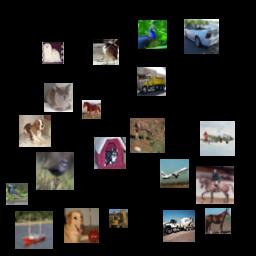airplane: (200, 121, 235, 156), (160, 159, 189, 188)
automobile: (184, 19, 219, 54)
bird: (36, 152, 74, 190), (138, 20, 167, 49), (93, 39, 119, 65), (6, 183, 28, 205)
cat: (94, 137, 126, 169), (44, 83, 73, 112)
deer: (130, 118, 165, 153)
dog: (64, 208, 99, 243), (19, 115, 51, 147), (42, 42, 64, 64)
ship: (15, 211, 53, 249)
truck: (163, 210, 195, 242), (137, 67, 166, 96), (109, 209, 128, 228)
